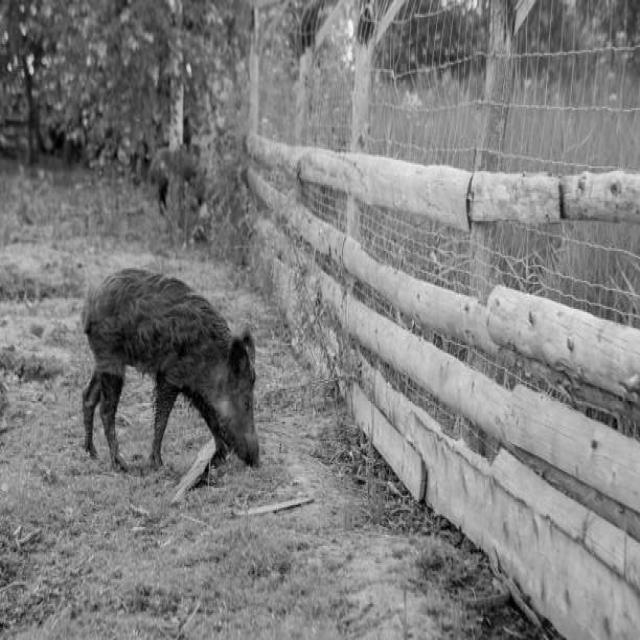boar: (82, 268, 259, 471)
